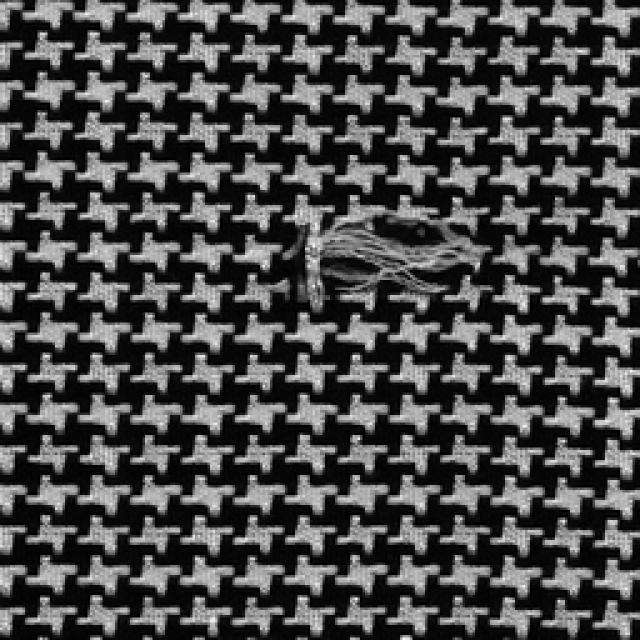defect: (298, 204, 494, 312)
